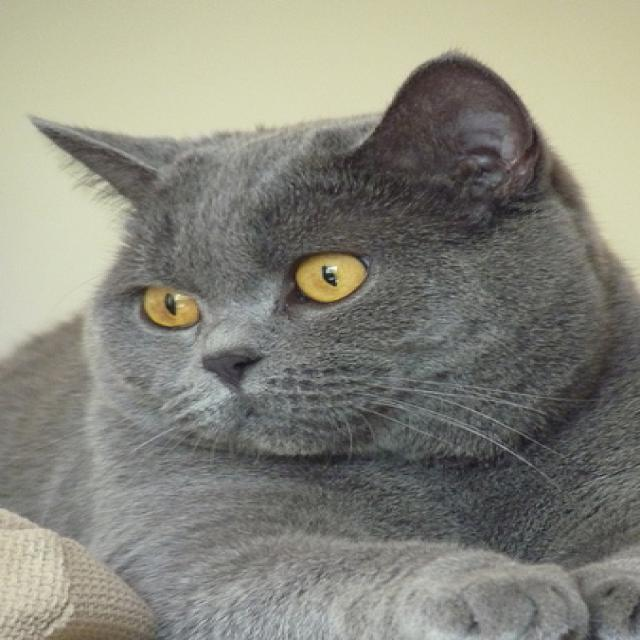British Shorthair: (19, 47, 640, 640)
